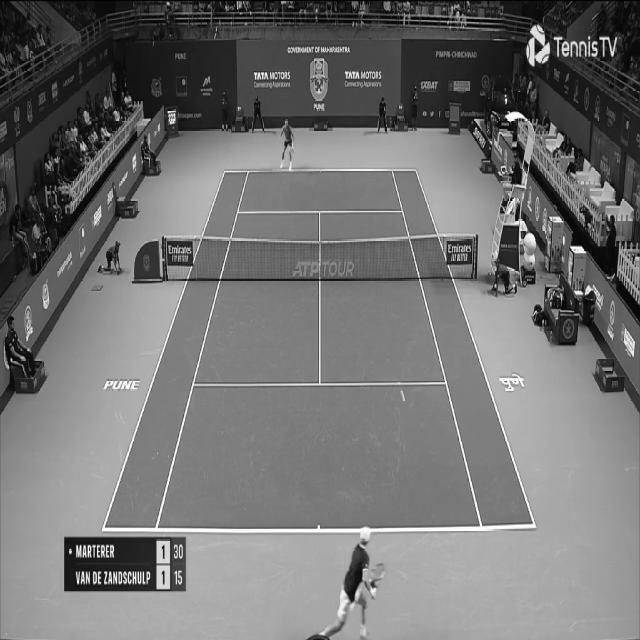tennis-court: (101, 169, 538, 533)
